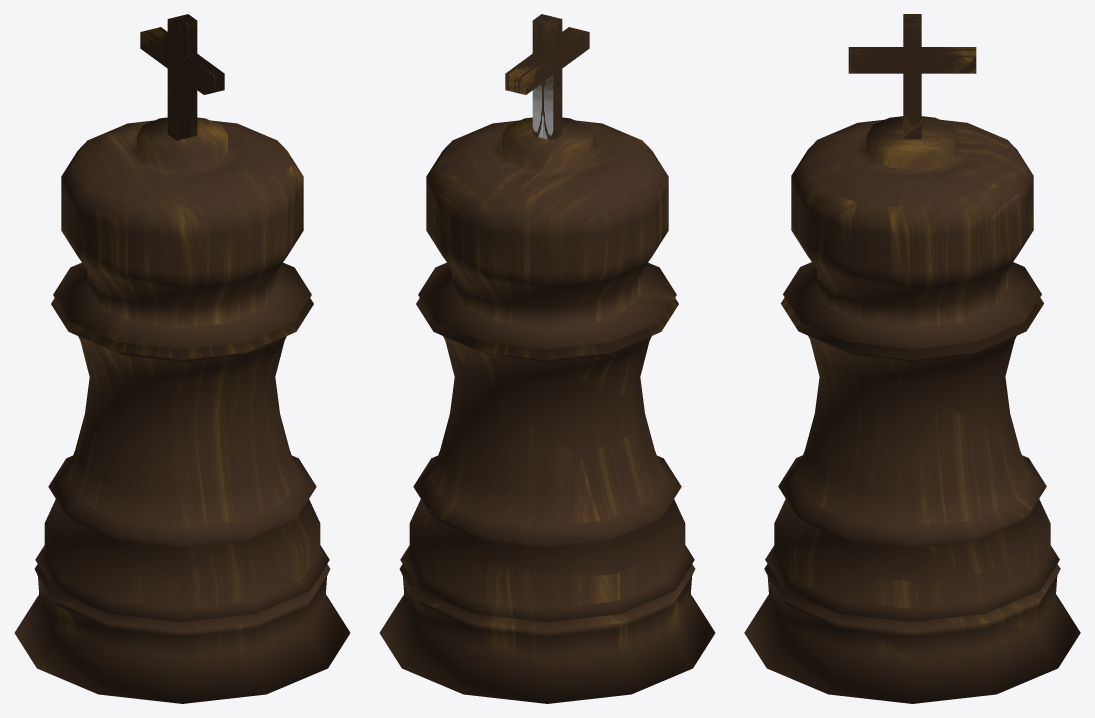
Rendered from Black King.fbx.
3 views of the same model, side by side, from view 1: azimuth 30°, elevation 25°; view 2: azimuth 150°, elevation 25°; view 3: azimuth 270°, elevation 25° (orthographic).
Parts seen in each view (by area): view 1: Black_King:King_Piece:cylinder, Black_King:King_Piece:cube; view 2: Black_King:King_Piece:cylinder, Black_King:King_Piece:cube; view 3: Black_King:King_Piece:cylinder, Black_King:King_Piece:cube.
Part boxes in pixels (x1=…): Black_King:King_Piece:cylinder: x1=14, y1=117, x2=350, y2=703; Black_King:King_Piece:cube: x1=140, y1=14, x2=224, y2=140; Black_King:King_Piece:cylinder: x1=379, y1=117, x2=715, y2=703; Black_King:King_Piece:cube: x1=505, y1=14, x2=589, y2=140; Black_King:King_Piece:cylinder: x1=744, y1=116, x2=1080, y2=703; Black_King:King_Piece:cube: x1=848, y1=14, x2=976, y2=139.
Size of the model in its own units: 2.78 by 5.59 by 2.78.
Materials: 1 (1 with a texture image).
